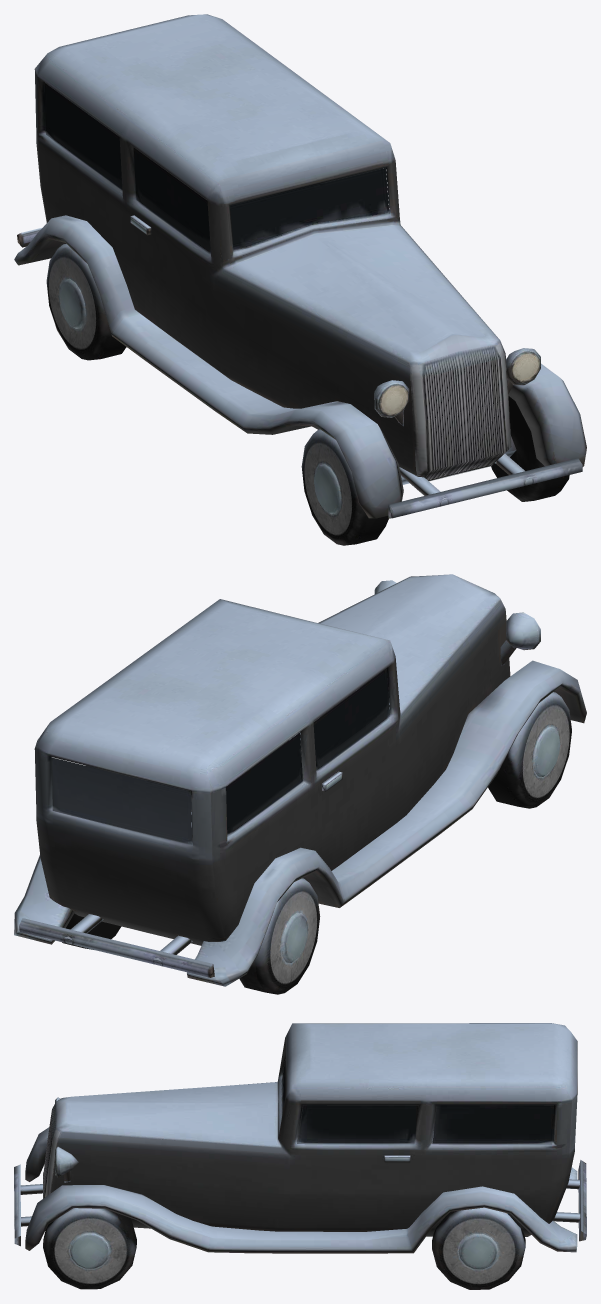
Rendered from SnowCar.glb.
3 views of the same model, one above another, from view 1: azimuth 30°, elevation 25°; view 2: azimuth 150°, elevation 25°; view 3: azimuth 270°, elevation 25° (orthographic). The views are drawn at different scales.
Parts seen in each view (by area): view 1: g (×4); view 2: g (×4); view 3: g (×4).
Boxes of the visible parts, x1,y1,x2,y2 form: g (×4): [14, 14, 586, 545]; g (×4): [14, 574, 586, 994]; g (×4): [14, 1023, 586, 1289].
Size of the model in its own units: 1.56 by 1.69 by 4.33.
Materials: 1 (1 with a texture image).
